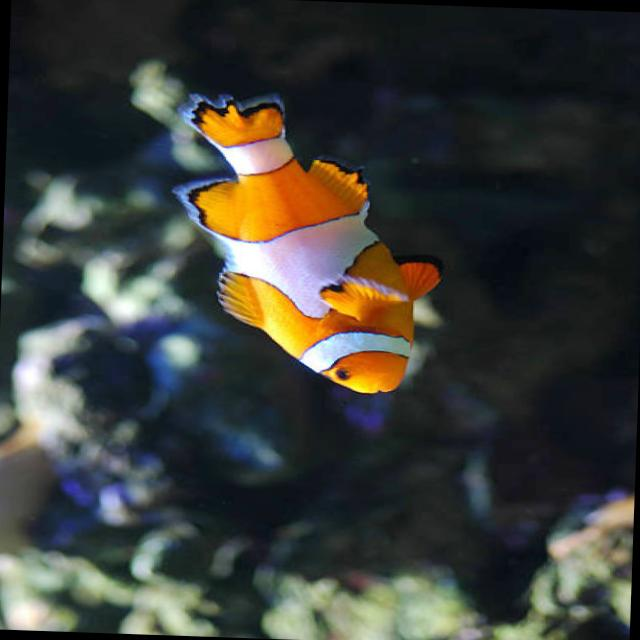ClownFish: (174, 93, 448, 394)
